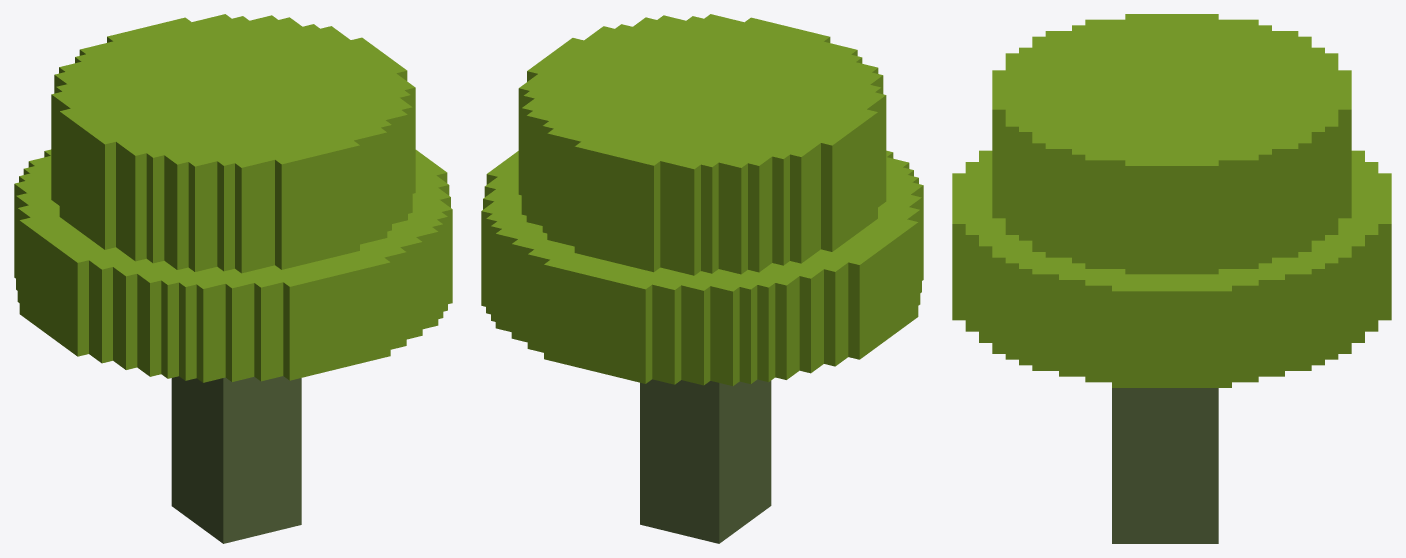
The model's file is Tree.fbx.
3 views of the same model, side by side, from view 1: azimuth 30°, elevation 25°; view 2: azimuth 150°, elevation 25°; view 3: azimuth 270°, elevation 25° (orthographic). The views are drawn at different scales.
Visible parts, largest first — view 1: tree2; view 2: tree2; view 3: tree2.
Boxes of the visible parts, <box> form: tree2: <box>14,14,452,543</box>; tree2: <box>481,14,923,543</box>; tree2: <box>952,14,1391,543</box>.
Bounding box in the file's own units: 3300 × 3600 × 3300.
